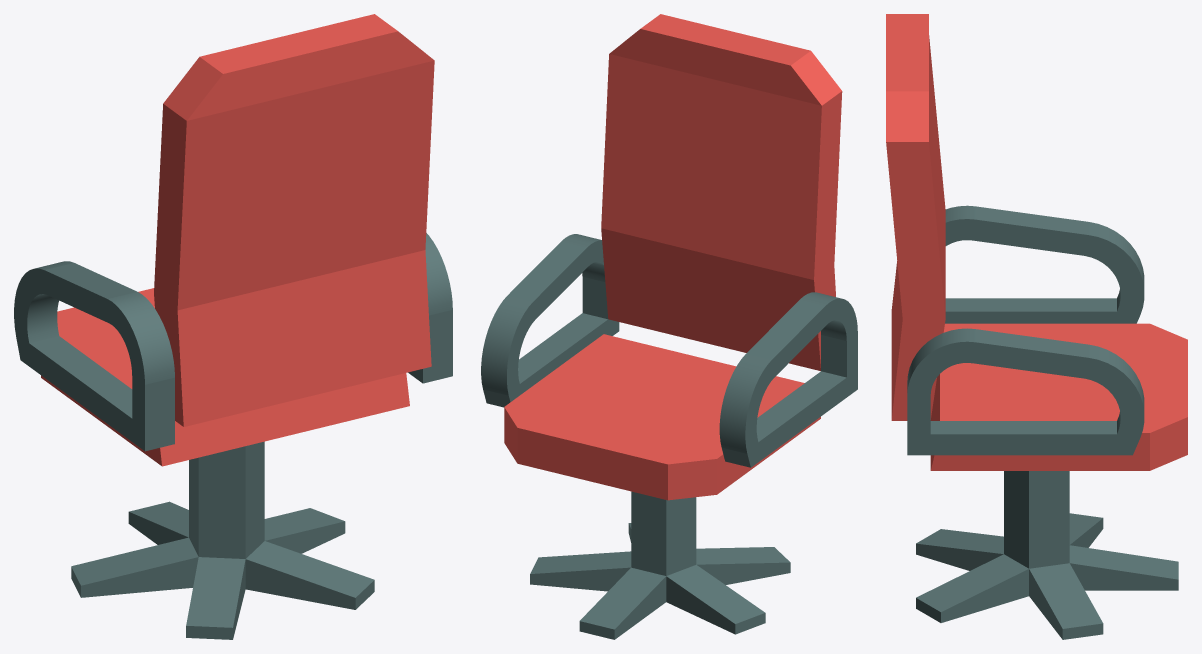
The model's file is deskchair.glb.
3 renders of one model, left to right at view 1: azimuth 30°, elevation 25°; view 2: azimuth 150°, elevation 25°; view 3: azimuth 270°, elevation 25°, orthographic. The views are drawn at different scales.
Parts seen in each view (by area): view 1: chair, chairDesk; view 2: chair, chairDesk; view 3: chair, chairDesk.
Part boxes in pixels (x1=…): chair: x1=14, y1=14, x2=452, y2=466; chairDesk: x1=71, y1=441, x2=374, y2=639; chair: x1=481, y1=14, x2=857, y2=500; chairDesk: x1=530, y1=491, x2=790, y2=639; chair: x1=886, y1=14, x2=1187, y2=470; chairDesk: x1=916, y1=471, x2=1178, y2=639.
Size of the model in its own units: 0.335 by 0.6076 by 0.3143.
